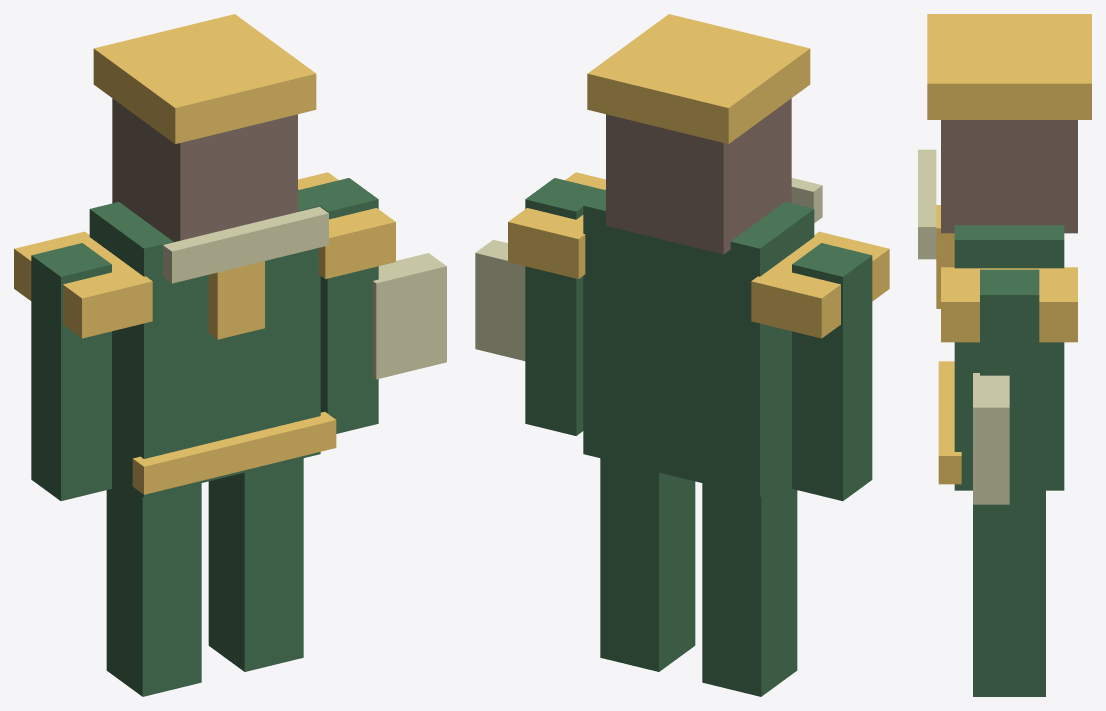
Rendered from 17_yara_brightlock_scout_under.glb.
3 renders of one model, left to right at view 1: azimuth 30°, elevation 25°; view 2: azimuth 150°, elevation 25°; view 3: azimuth 270°, elevation 25°, orthographic.
Parts seen in each view (by area): view 1: Yara Brightlock, Scout under; view 2: Yara Brightlock, Scout under; view 3: Yara Brightlock, Scout under.
Part boxes in pixels (x1=…): Yara Brightlock, Scout under: x1=14, y1=14, x2=446, y2=696; Yara Brightlock, Scout under: x1=475, y1=14, x2=889, y2=696; Yara Brightlock, Scout under: x1=918, y1=14, x2=1091, y2=696.
Bounding box in the file's own units: 0.9202 × 1.39 × 0.3586.
